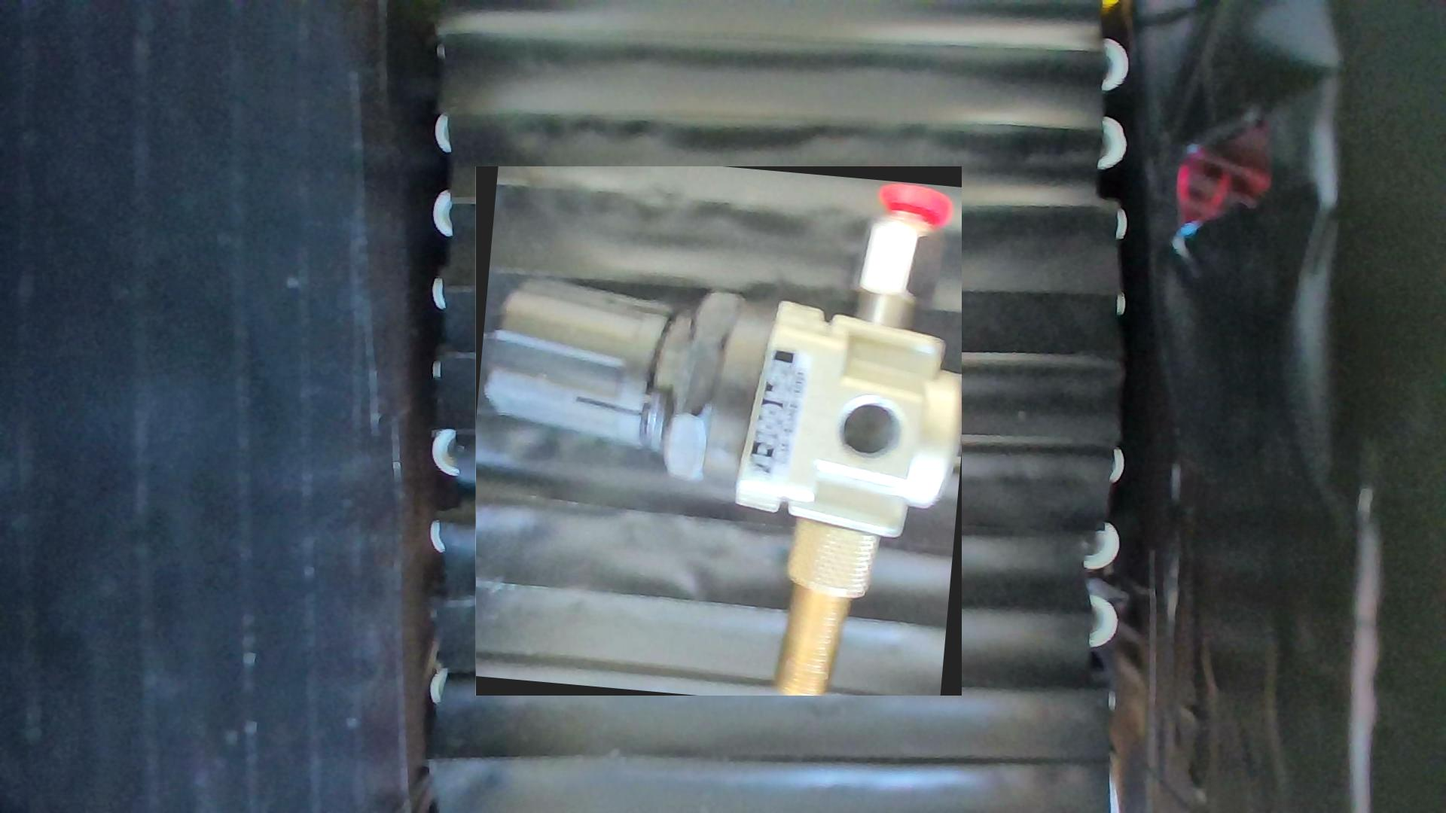regulator: (475, 166, 961, 696)
